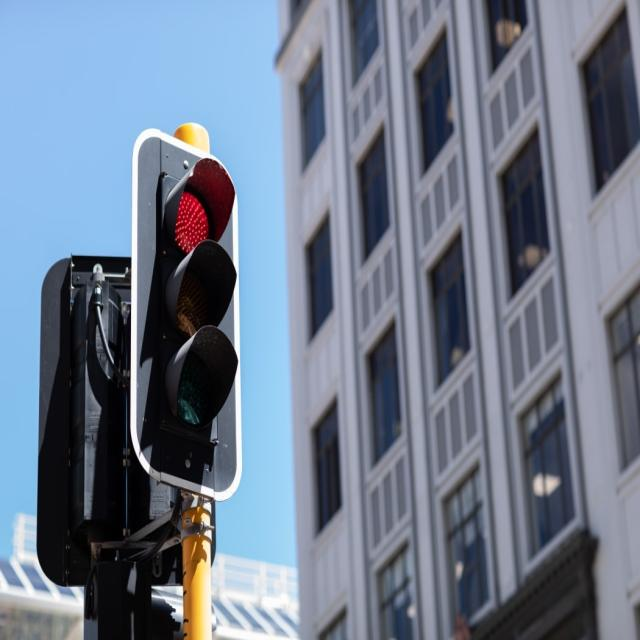red: (148, 156, 243, 482)
